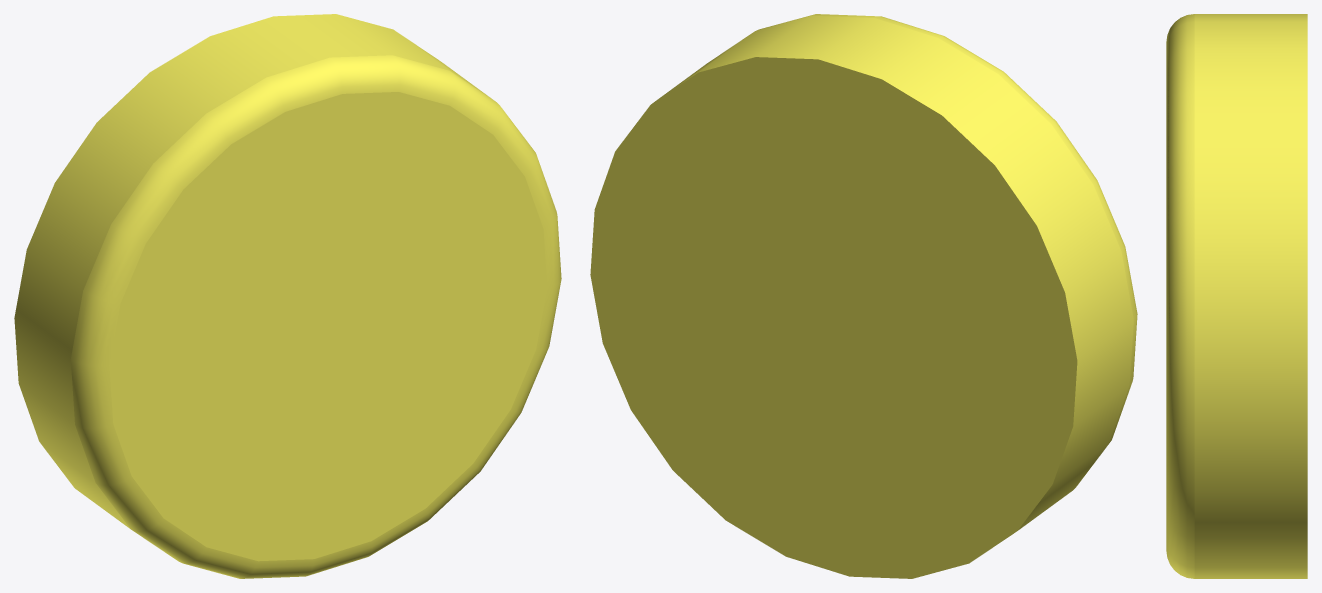
The model's file is original-35.obj.
3 views of the same model, side by side, from view 1: azimuth 30°, elevation 25°; view 2: azimuth 150°, elevation 25°; view 3: azimuth 270°, elevation 25° (orthographic).
Visible parts, largest first — view 1: Group17/mesh59/mesh59-geometry#mesh59-geometry; view 2: Group17/mesh59/mesh59-geometry#mesh59-geometry; view 3: Group17/mesh59/mesh59-geometry#mesh59-geometry.
Part boxes in pixels (<box>): Group17/mesh59/mesh59-geometry#mesh59-geometry: <box>14,14,561,578</box>; Group17/mesh59/mesh59-geometry#mesh59-geometry: <box>590,14,1137,578</box>; Group17/mesh59/mesh59-geometry#mesh59-geometry: <box>1166,14,1307,578</box>.
Size of the model in its own units: 0.0526 by 0.0526 by 0.0132.
